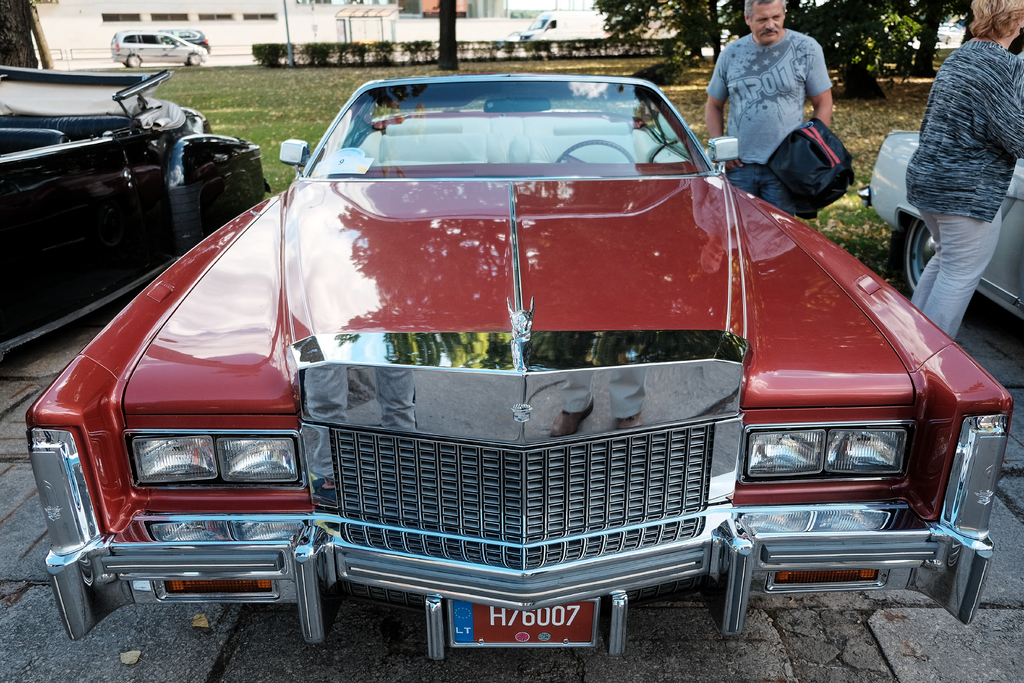Tree: (589, 0, 975, 75), (0, 0, 34, 70), (436, 0, 460, 69)
